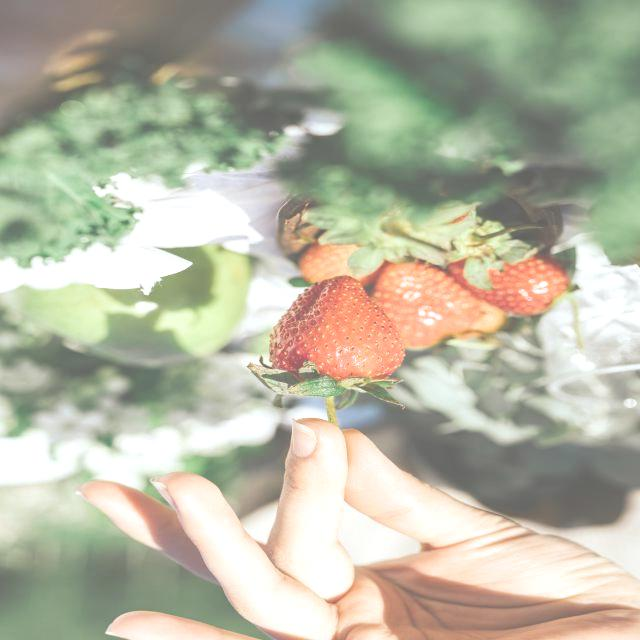ripe: (256, 276, 416, 404), (360, 254, 484, 356), (454, 242, 586, 322), (291, 237, 374, 291)
